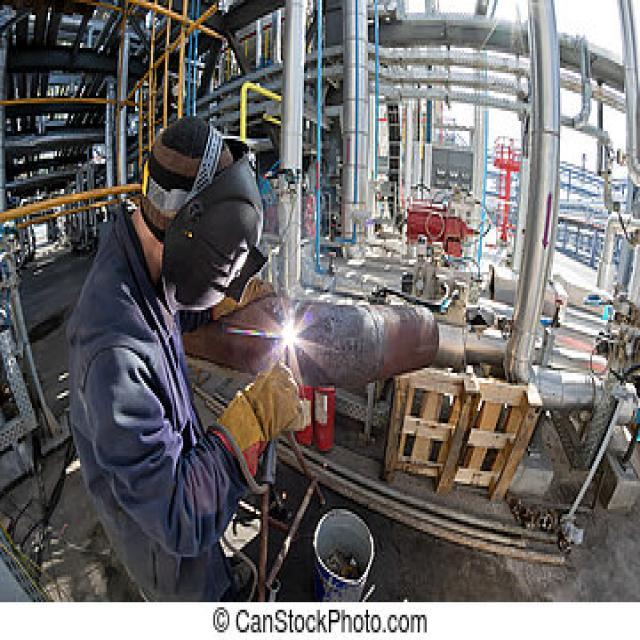with_helmet: (161, 158, 266, 310)
